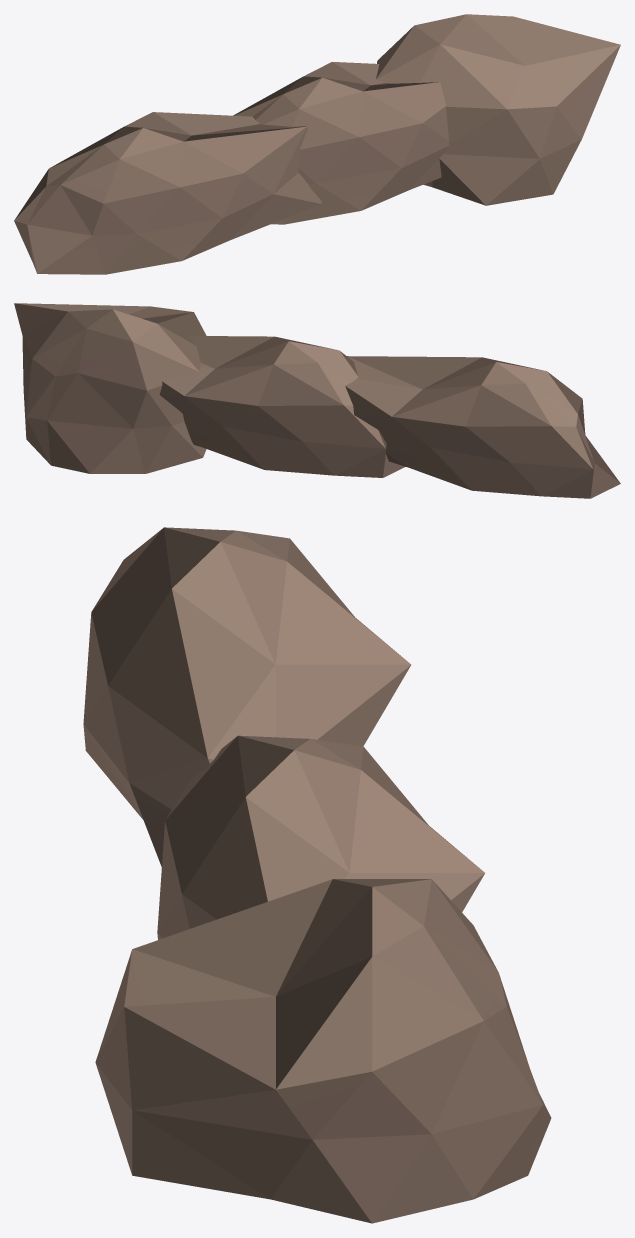
Rendered from shitou6.fbx.
3 renders of one model, top to bottom at view 1: azimuth 30°, elevation 25°; view 2: azimuth 150°, elevation 25°; view 3: azimuth 270°, elevation 25°, orthographic. The views are drawn at different scales.
Visible parts, largest first — view 1: shitou6; view 2: shitou6; view 3: shitou6.
Boxes of the visible parts, x1,y1,x2,y2 form: shitou6: (14,14,620,274); shitou6: (14,303,620,498); shitou6: (83,527,551,1223).
Bounding box in the file's own units: 23.47 × 5.29 × 8.18.
